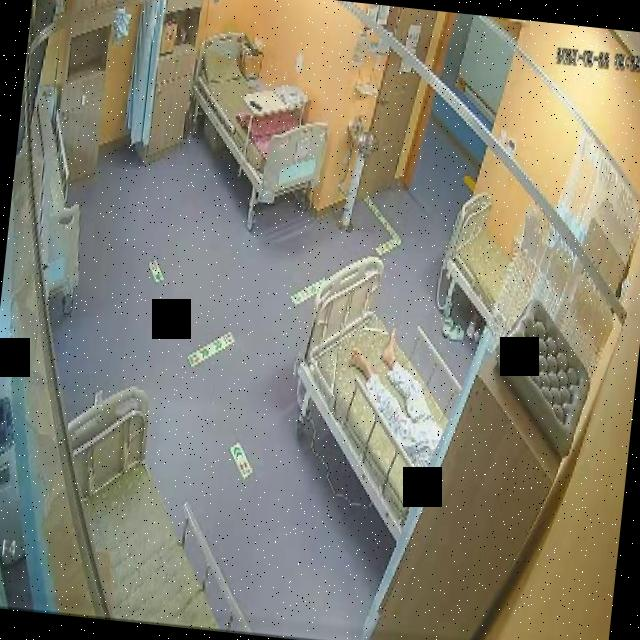bed: (46, 378, 274, 634), (282, 252, 464, 540), (182, 31, 335, 208), (438, 190, 516, 324)
lie: (338, 318, 454, 480)
patient: (338, 317, 453, 481)
